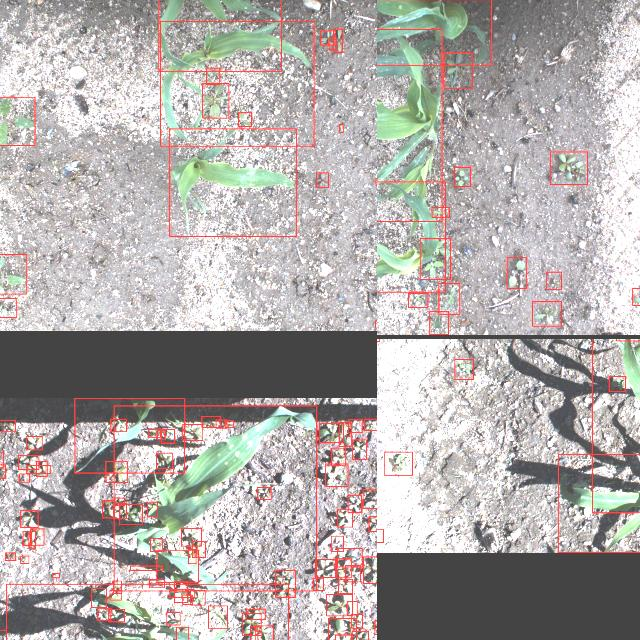crop: (114, 405, 316, 591), (159, 21, 313, 146), (6, 583, 288, 640), (169, 128, 295, 236), (377, 28, 441, 221), (157, 0, 280, 70), (592, 339, 640, 513), (557, 453, 640, 552), (74, 398, 184, 472), (377, 181, 444, 292), (377, 0, 491, 65)
weed: (0, 96, 34, 145), (156, 550, 198, 582), (420, 238, 450, 280), (550, 152, 586, 184), (442, 52, 472, 88), (0, 254, 26, 294), (202, 82, 228, 118), (532, 302, 560, 326), (384, 452, 412, 476), (438, 284, 459, 314), (328, 618, 356, 640), (506, 258, 526, 288), (326, 594, 352, 616), (275, 570, 295, 598), (325, 464, 347, 486), (118, 504, 142, 524), (336, 548, 362, 566), (319, 423, 343, 442), (428, 312, 448, 334), (105, 462, 126, 482), (362, 556, 377, 583), (242, 613, 260, 635), (208, 606, 226, 628), (453, 359, 472, 379), (315, 559, 335, 577), (181, 528, 201, 546), (454, 167, 471, 187), (20, 510, 38, 528), (90, 588, 106, 608), (182, 424, 202, 440), (0, 298, 16, 317), (17, 455, 38, 469), (339, 422, 351, 446), (608, 376, 626, 392), (362, 489, 377, 508), (407, 293, 427, 307), (352, 439, 366, 459), (336, 558, 350, 578), (336, 509, 352, 526), (344, 566, 360, 582), (156, 452, 172, 468), (546, 272, 560, 290), (347, 495, 361, 513), (331, 447, 345, 465), (254, 626, 272, 640), (332, 28, 342, 52), (174, 582, 186, 602), (205, 68, 219, 84), (338, 578, 352, 594), (190, 590, 204, 606), (110, 418, 126, 432), (29, 529, 43, 545), (26, 436, 42, 450), (246, 608, 264, 620), (102, 500, 114, 518), (331, 536, 344, 552), (168, 589, 194, 597), (201, 417, 219, 428), (320, 30, 334, 44), (112, 504, 126, 518), (160, 429, 174, 443), (316, 172, 328, 188), (192, 541, 204, 557), (108, 610, 124, 622), (26, 465, 50, 473), (238, 112, 250, 126), (347, 420, 361, 432), (149, 538, 161, 552), (0, 419, 14, 431), (256, 487, 270, 499), (432, 207, 448, 217), (36, 460, 46, 476), (148, 578, 164, 588), (167, 612, 180, 624), (175, 628, 188, 640), (363, 418, 377, 429), (351, 614, 362, 628), (631, 288, 640, 305), (351, 631, 367, 640), (98, 608, 110, 620), (22, 530, 31, 546), (346, 601, 356, 615), (147, 502, 157, 516), (368, 516, 377, 531), (187, 548, 195, 564), (130, 566, 162, 570), (313, 578, 323, 590), (109, 590, 121, 600), (112, 580, 120, 594), (28, 530, 34, 548), (249, 627, 257, 640), (182, 595, 192, 605), (335, 634, 351, 640), (148, 429, 160, 437), (216, 419, 227, 427), (328, 39, 336, 49), (114, 497, 124, 505), (5, 552, 15, 560), (19, 474, 29, 482), (156, 429, 164, 439), (224, 420, 233, 428), (0, 464, 5, 478), (377, 529, 382, 543), (20, 556, 28, 564), (0, 630, 5, 640), (374, 619, 377, 634), (52, 572, 58, 578), (339, 124, 343, 132), (374, 321, 377, 328)
